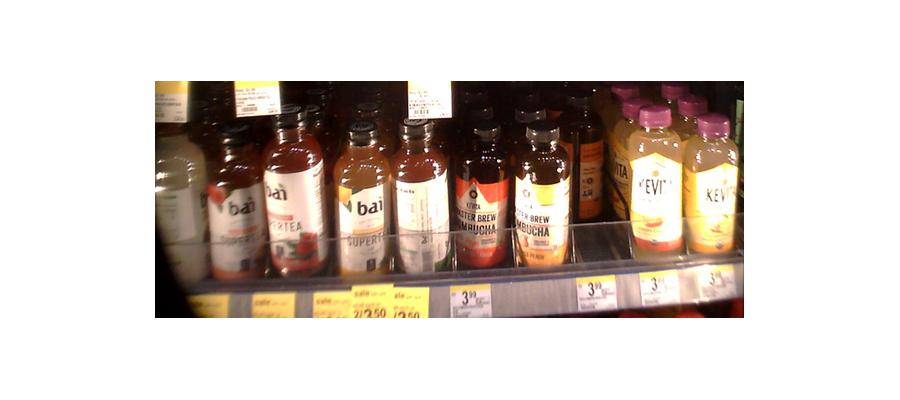bottle: (264, 103, 330, 282), (153, 84, 204, 283), (391, 114, 451, 277), (626, 104, 688, 261), (207, 118, 264, 283), (331, 115, 389, 275), (453, 120, 513, 272), (517, 118, 570, 273), (687, 110, 738, 261), (565, 92, 606, 231)
